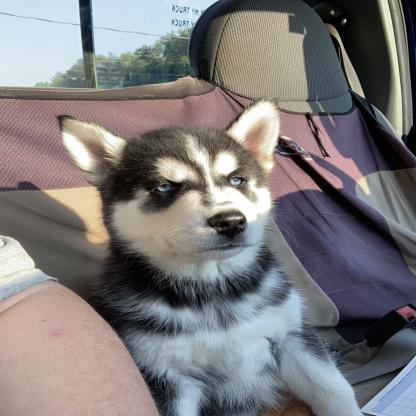dog: (51, 99, 358, 416)
